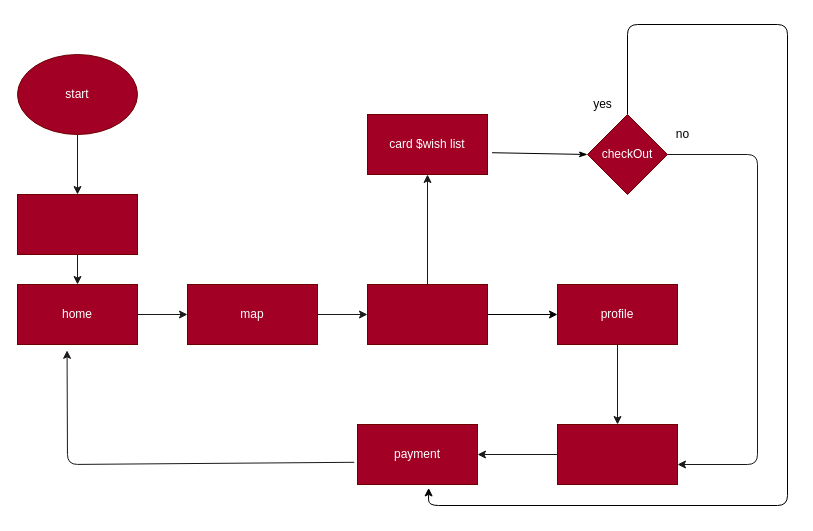
The diagram is 813 pixels wide and 531 high, and some of its shapes have lost their labels. Here are the shapes that lost their labels. From the top down, the centre of each, then its label:
At (x=77, y=224): "splash".
At (x=427, y=314): "shop&services".
At (x=617, y=454): "Authontcion".
